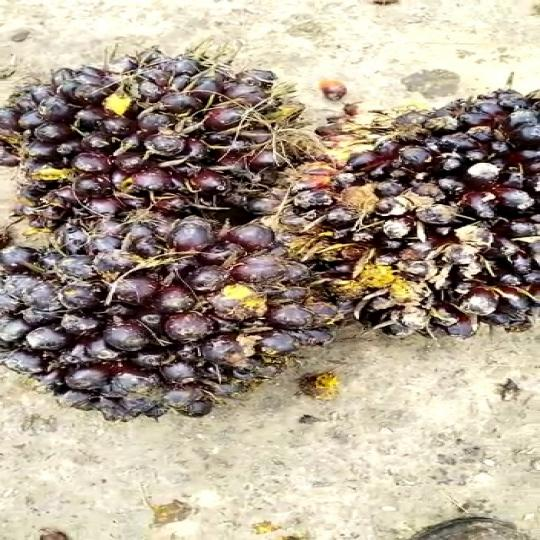mentah: (270, 78, 540, 354), (0, 214, 331, 413), (0, 39, 311, 233)
